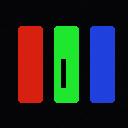4 line_v: (61, 59, 65, 87)
